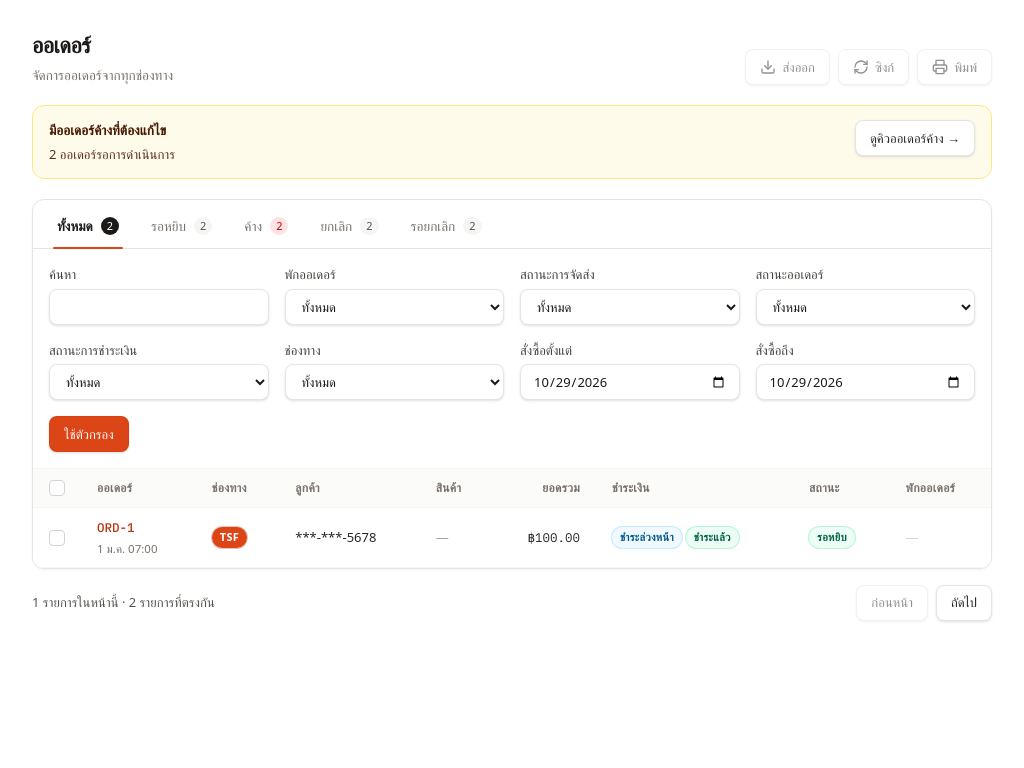
Test case: OrdersListPage › maps filters to query string and paginates with cursor
Expected: the link "ORD-1" is shown, [97,519,134,535]
Type "ORD" into the field labelled "ค้นหา" at (159, 307), box [49,289,268,325]
Select "รอยกเลิกจากช่องทาง" in the dropdown labelled "พักออเดอร์" at (394, 307), box [284,289,504,325]
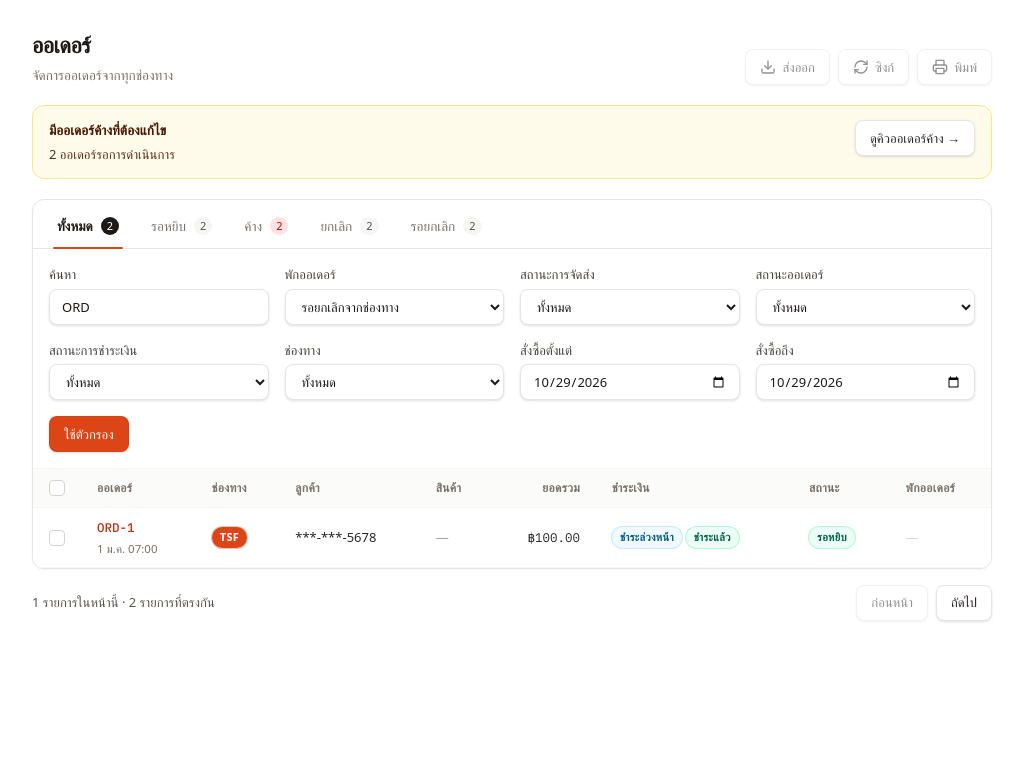
Select "ใช้งาน" in the dropdown labelled "สถานะออเดอร์" at (865, 307), box [756,289,975,325]
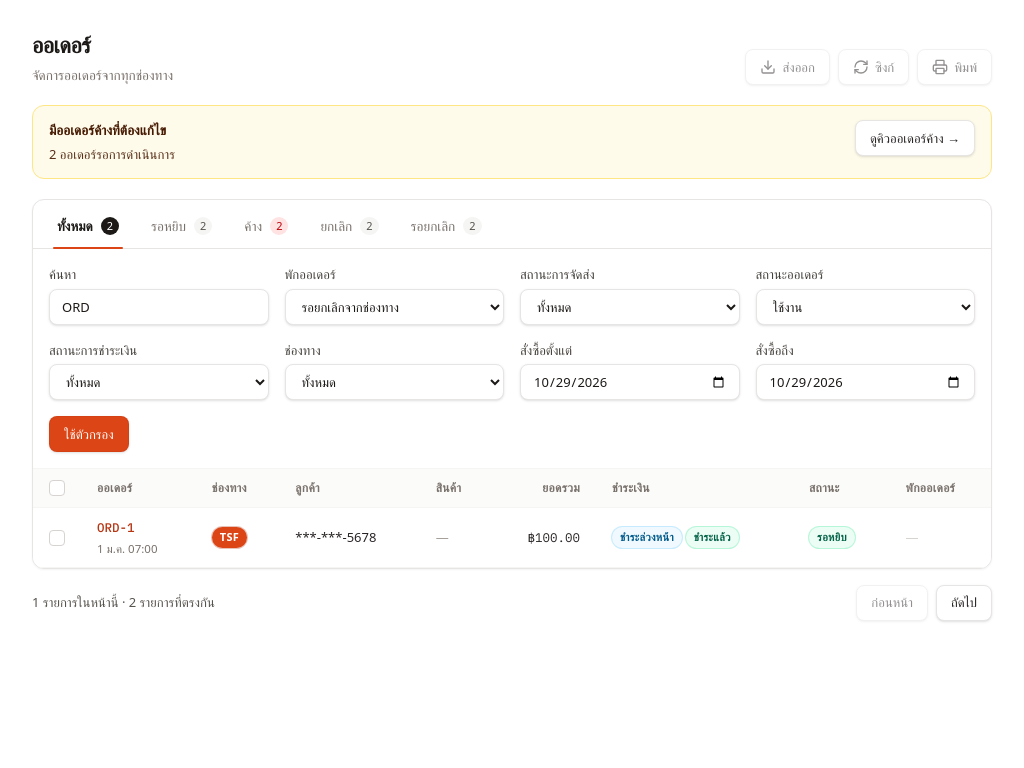
Select "ชำระแล้ว" in the dropdown labelled "สถานะการชำระเงิน" at (159, 382), box [49,364,268,400]
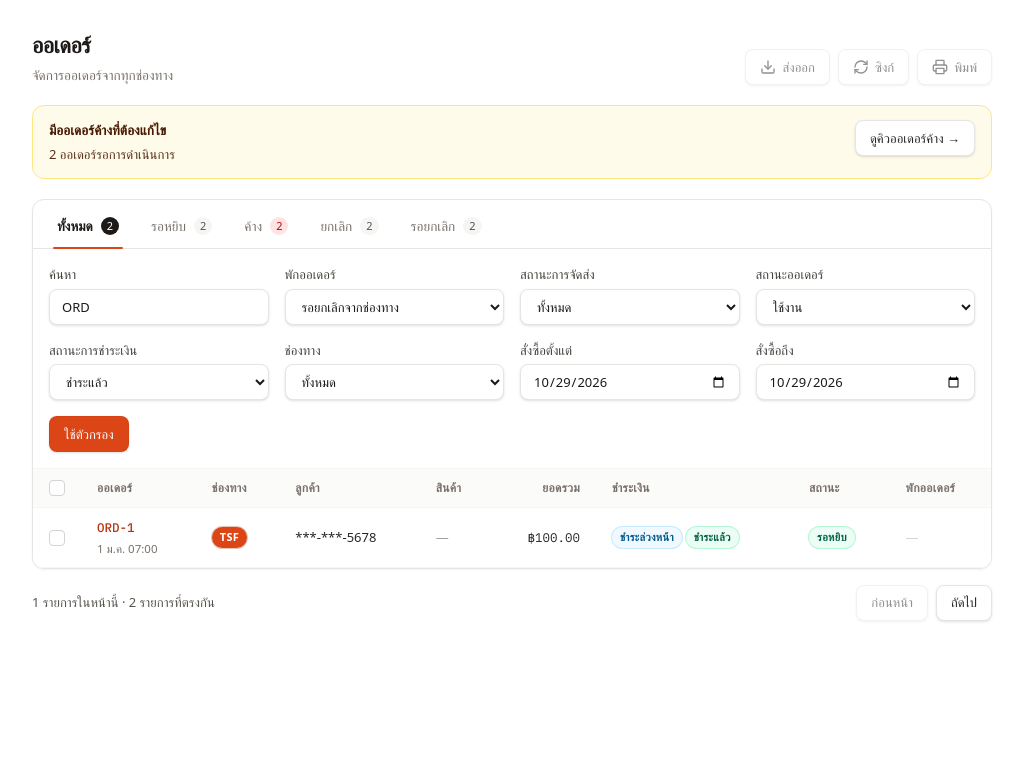
Select "TSF" in the dropdown labelled "ช่องทาง" at (394, 382), box [284,364,504,400]
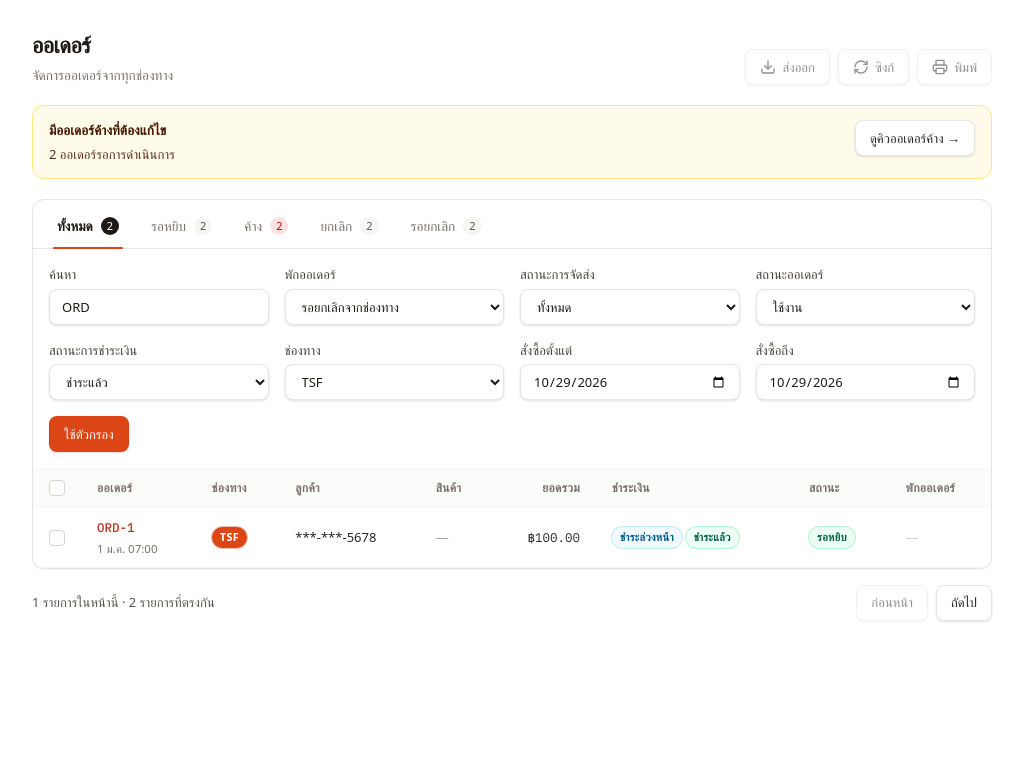
Click the button "ใช้ตัวกรอง" at (89, 434), box [49,416,129,452]
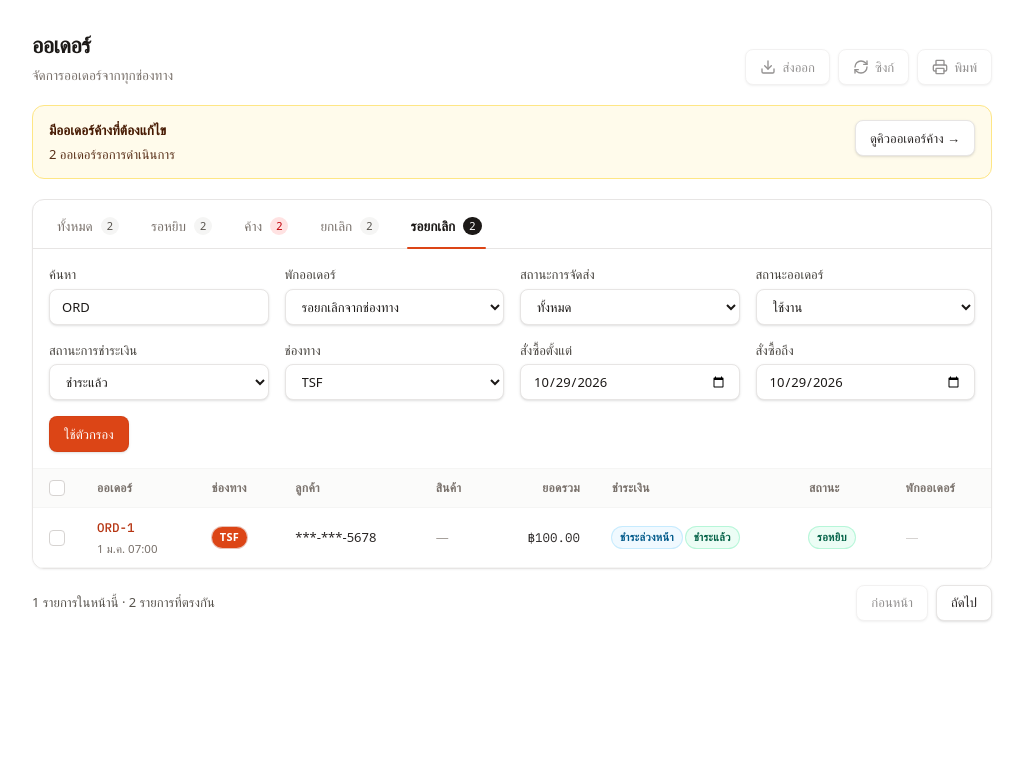
Click the button "ถัดไป" at (964, 603), box [936,585,992,621]
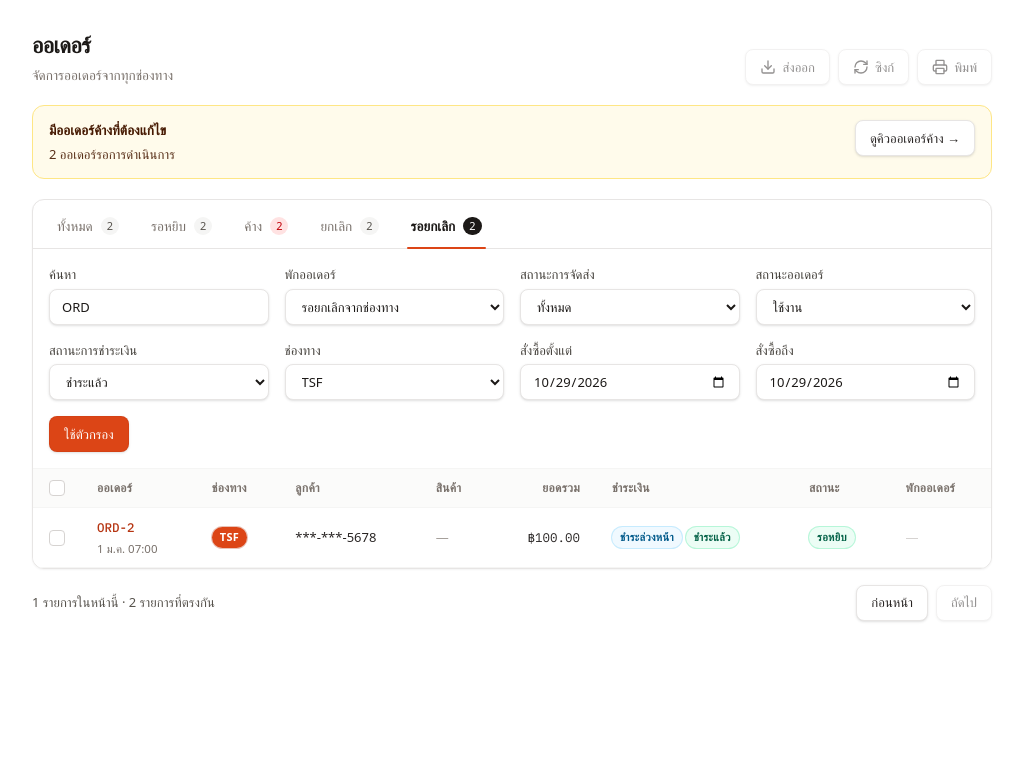
Expected: the link "ORD-2" is shown, [97,519,134,535]
